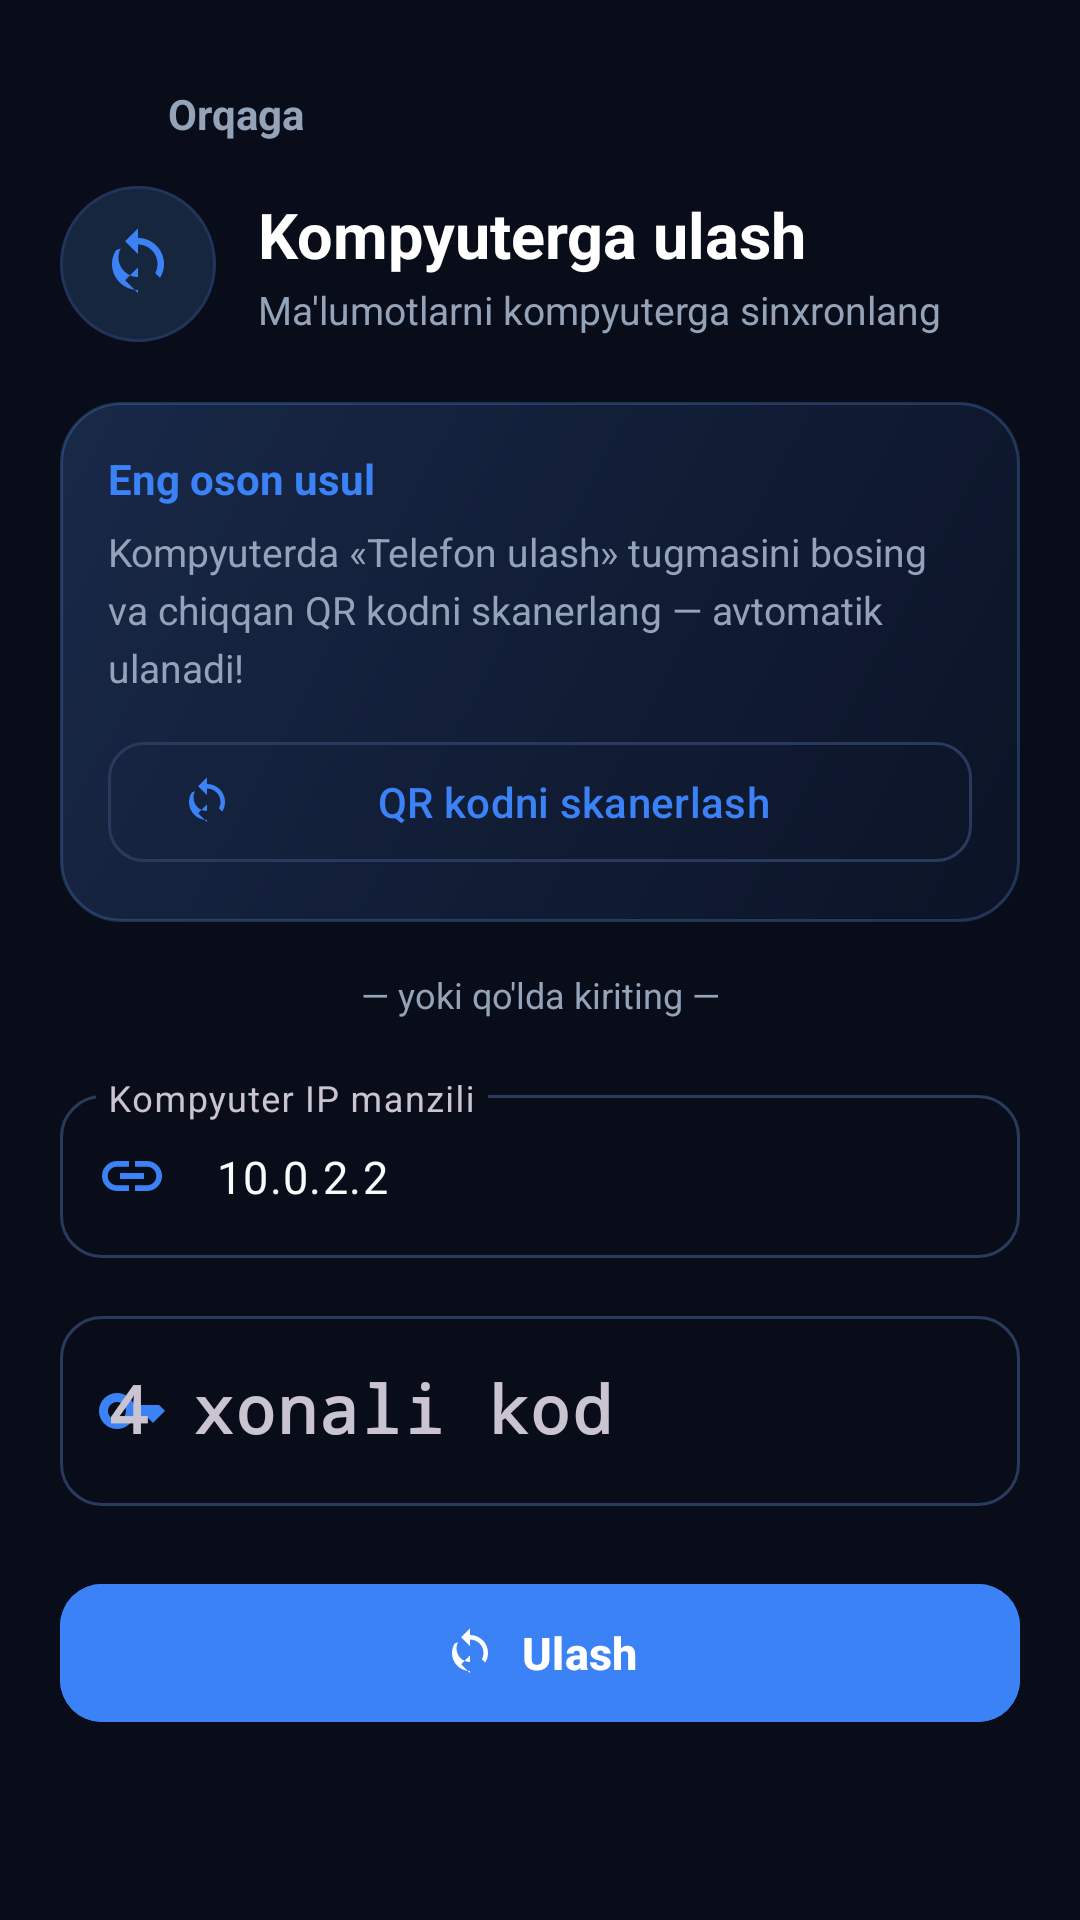

Named icons in this screenshot (1080 × 1920) and their centers, (x=x, y=y):
sync: (x=138, y=264)
